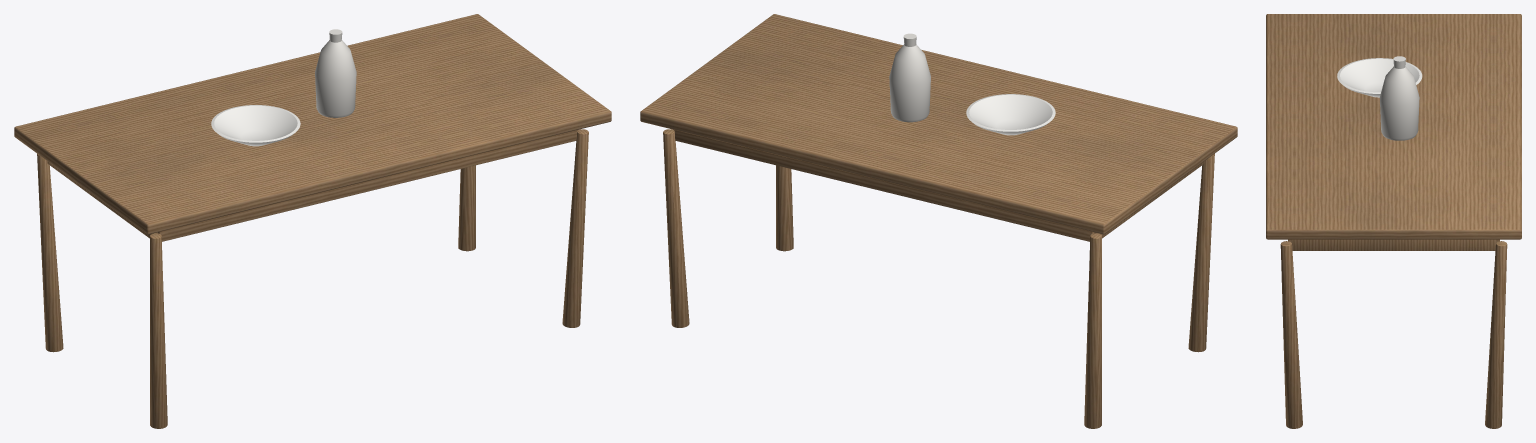
The model's file is mesa-comedor-roble-v2.gltf.
3 views of the same model, side by side, from view 1: azimuth 30°, elevation 25°; view 2: azimuth 150°, elevation 25°; view 3: azimuth 270°, elevation 25° (orthographic). The views are drawn at different scales.
Visible parts, largest first — view 1: mesa-comedor-roble__w_roble_x, mesa-comedor-roble__w_roble, mesa-comedor-roble__c_mate, mesa-comedor-roble__k_ceramica; view 2: mesa-comedor-roble__w_roble_x, mesa-comedor-roble__w_roble, mesa-comedor-roble__c_mate, mesa-comedor-roble__k_ceramica; view 3: mesa-comedor-roble__w_roble_x, mesa-comedor-roble__w_roble, mesa-comedor-roble__c_mate, mesa-comedor-roble__k_ceramica.
Boxes of the visible parts, x1,y1,x2,y2 form: mesa-comedor-roble__w_roble_x: (14, 14, 611, 241); mesa-comedor-roble__w_roble: (37, 129, 588, 428); mesa-comedor-roble__c_mate: (315, 29, 356, 117); mesa-comedor-roble__k_ceramica: (211, 105, 300, 146); mesa-comedor-roble__w_roble_x: (640, 14, 1237, 241); mesa-comedor-roble__w_roble: (663, 129, 1214, 428); mesa-comedor-roble__c_mate: (889, 33, 930, 122); mesa-comedor-roble__k_ceramica: (966, 94, 1055, 135); mesa-comedor-roble__w_roble_x: (1266, 14, 1521, 242); mesa-comedor-roble__w_roble: (1280, 239, 1507, 428); mesa-comedor-roble__c_mate: (1379, 56, 1419, 140); mesa-comedor-roble__k_ceramica: (1337, 58, 1422, 97).
Bounding box in the file's own units: 1.8 × 1.1 × 0.9001.
Materials: 4 (2 with a texture image).
